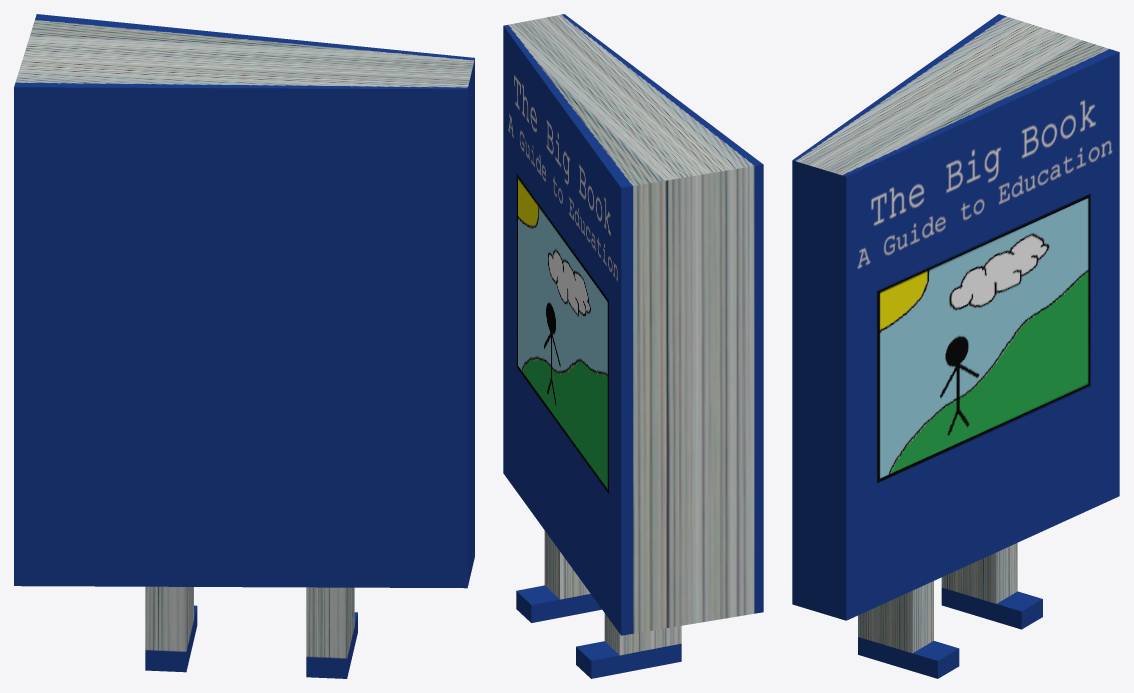
File: research_book_final.fbx
The picture shows the model from 3 angles, left to right: view 1: azimuth 30°, elevation 25°; view 2: azimuth 150°, elevation 25°; view 3: azimuth 270°, elevation 25°; orthographic projection. The views are drawn at different scales.
Parts seen in each view (by area): view 1: research_book_mesh; view 2: research_book_mesh; view 3: research_book_mesh.
Boxes of the visible parts, x1=… form: research_book_mesh: x1=14, y1=14, x2=474, y2=678; research_book_mesh: x1=503, y1=14, x2=763, y2=678; research_book_mesh: x1=792, y1=14, x2=1119, y2=678.
Size of the model in its own units: 127 by 193 by 108.
